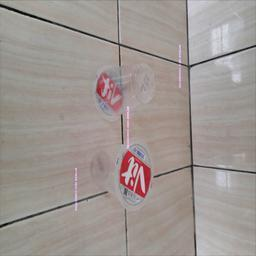plastic: (90, 144, 154, 208), (96, 64, 155, 122)
